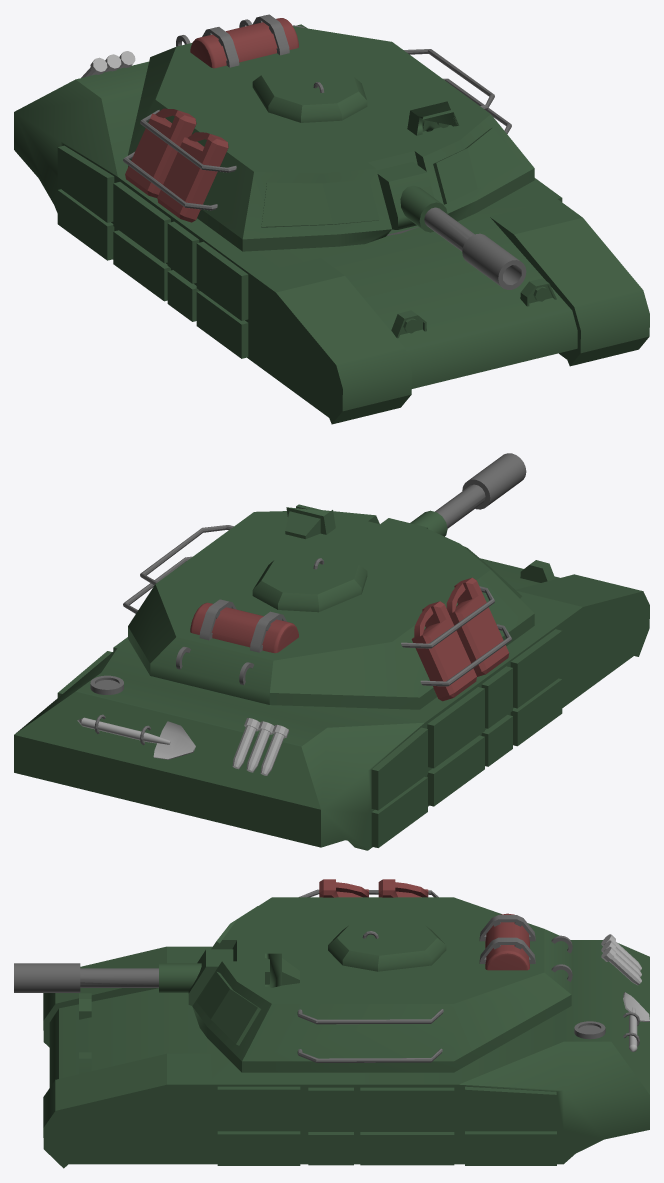
The model's file is TankColor.fbx.
3 renders of one model, top to bottom at view 1: azimuth 30°, elevation 25°; view 2: azimuth 150°, elevation 25°; view 3: azimuth 270°, elevation 25°, orthographic. The views are drawn at different scales.
Parts seen in each view (by area): view 1: Body, HeadBase, HatchBase, HeadTank, FuelCannisterF, Gun, FuelCannisterB, GunPilot, FrontLight, GunBarrelBase, SupportBarRT, SupportBarLT (+1 smaller); view 2: Body, HeadBase, HatchBase, HeadTank, FuelCannisterB, FuelCannisterF, Gun, Shovel, FrontLight, SupportBarRT, SupportBarRB, SupportBarLT (+5 smaller); view 3: Body, HeadBase, HatchBase, Gun, HeadTank, GunBarrelBase, GunPilot, FrontLight, SupportBarLT, FuelCannisterB, SupportBarLB, FuelCannisterF (+3 smaller).
Boxes of the visible parts, <box> form: Body: <box>14,24,649,424</box>; HeadBase: <box>128,26,534,251</box>; HatchBase: <box>252,61,367,122</box>; HeadTank: <box>190,14,298,68</box>; FuelCannisterF: <box>157,132,228,222</box>; Gun: <box>424,207,526,289</box>; FuelCannisterB: <box>125,108,196,197</box>; GunPilot: <box>376,161,434,229</box>; FrontLight: <box>407,101,459,135</box>; GunBarrelBase: <box>400,185,447,232</box>; SupportBarRT: <box>140,110,236,172</box>; SupportBarLT: <box>404,49,494,109</box>; Body: <box>14,558,649,850</box>; HeadBase: <box>128,510,534,709</box>; HatchBase: <box>252,550,367,612</box>; HeadTank: <box>190,599,298,653</box>; FuelCannisterB: <box>411,601,476,701</box>; FuelCannisterF: <box>446,577,509,676</box>; Gun: <box>435,453,526,528</box>; Shovel: <box>77,717,195,759</box>; FrontLight: <box>285,504,335,539</box>; SupportBarRT: <box>401,586,494,648</box>; SupportBarRB: <box>420,624,511,686</box>; SupportBarLT: <box>140,525,233,585</box>; Body: <box>43,940,649,1168</box>; HeadBase: <box>192,897,571,1072</box>; HatchBase: <box>328,920,446,971</box>; Gun: <box>14,963,158,992</box>; HeadTank: <box>479,913,535,970</box>; GunBarrelBase: <box>159,963,201,992</box>; GunPilot: <box>188,949,233,1005</box>; FrontLight: <box>265,953,299,987</box>; SupportBarLT: <box>297,1009,443,1024</box>; FuelCannisterB: <box>378,879,428,897</box>; SupportBarLB: <box>297,1048,442,1062</box>; FuelCannisterF: <box>319,879,368,897</box>.
Size of the model in its own units: 7.02 by 3.79 by 12.77.
